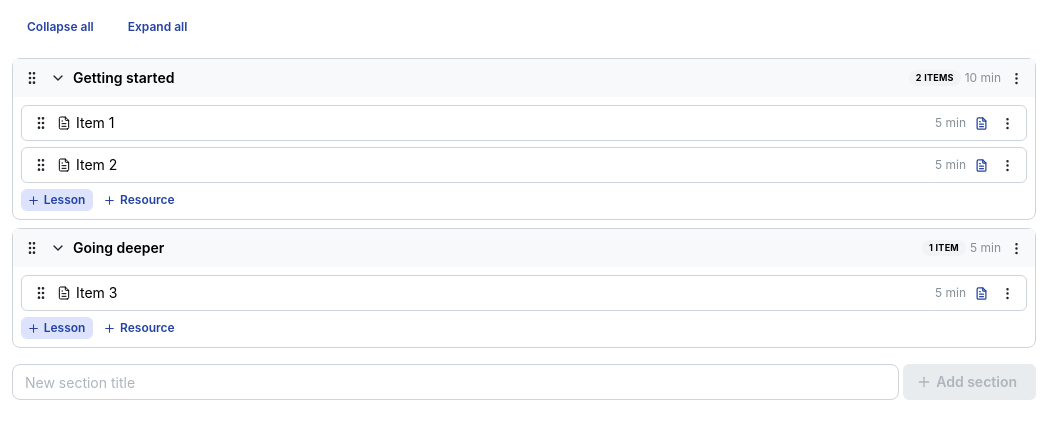
CurriculumBuilder › renames an item inline and shows the new name immediately
This screenshot has width=1048, height=425.
Click the text "Item 1" at (95,122), box [76,114,114,131]
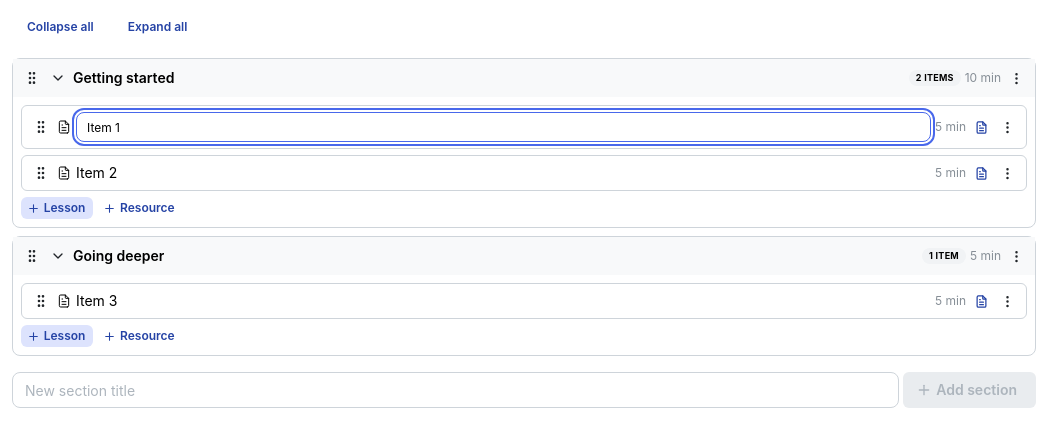
Replace the text in the field named "Item title" with "Renamed" at (504,127), box [76,112,931,142]
Then press Enter
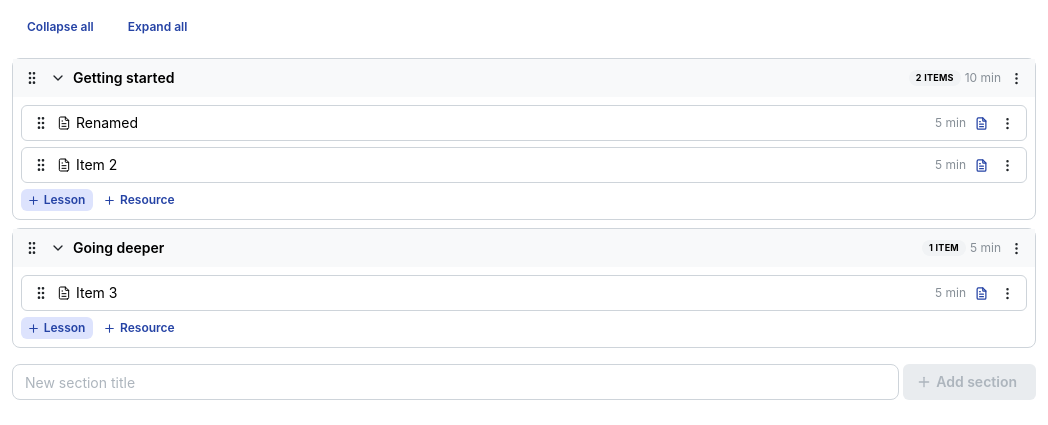
Check: the text "Renamed" is shown, box [76,114,138,131]
